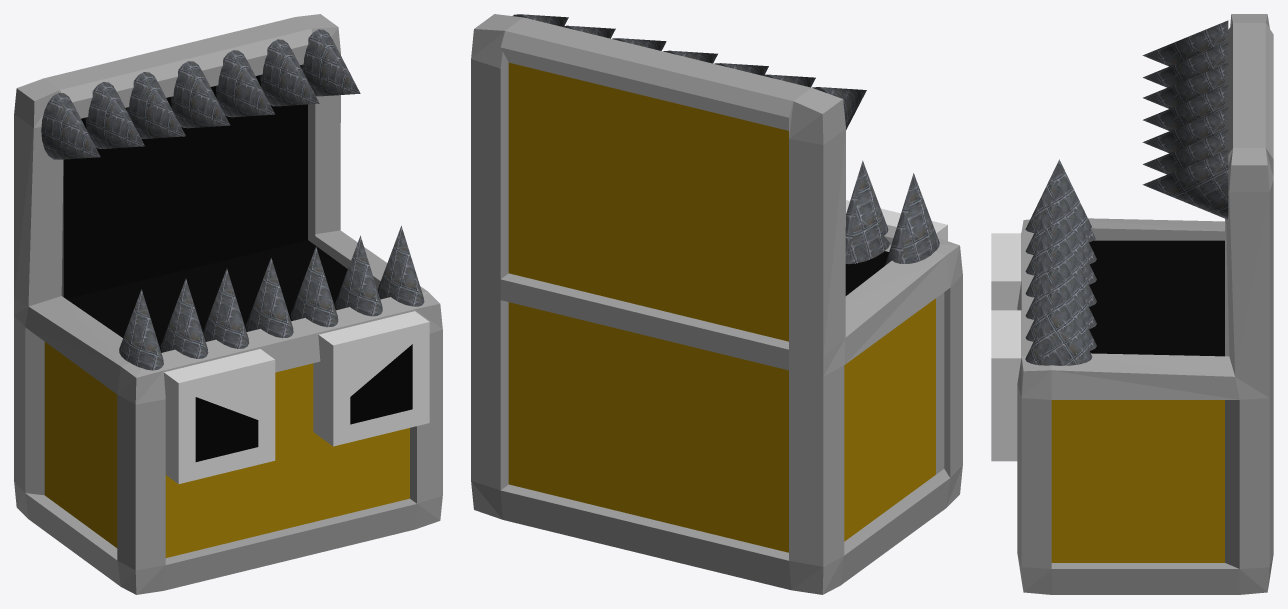
Rendered from Chest_Normal_Mimic.fbx.
3 views of the same model, side by side, from view 1: azimuth 30°, elevation 25°; view 2: azimuth 150°, elevation 25°; view 3: azimuth 270°, elevation 25° (orthographic). The views are drawn at different scales.
Parts seen in each view (by area): view 1: pCube18, pCube20, pCube19, pasted__pCone1, pasted__pCone3, pasted__pasted__pasted__pCone1, pasted__pasted__pasted__pCone3, pasted__pasted__pasted__pCone2, pasted__pCone4, pasted__pCone2, pasted__pasted__pasted__pCone6, pasted__pasted__pasted__pCone5 (+5 smaller); view 2: pCube18, pasted__pasted__pasted__pCone4, pasted__pCone5, pasted__pCone1; view 3: pCube18, pCube20, pasted__pCone4, pasted__pCone8, pCube19, pasted__pasted__pasted__pCone2, pasted__pCone1, pasted__pCone3, pasted__pCone2, pasted__pasted__pasted__pCone1, pasted__pasted__pasted__pCone3, pasted__pasted__pasted__pCone5 (+5 smaller).
Boxes of the visible parts, bbox=[...] form: pCube18: bbox=[14, 14, 442, 594]; pCube20: bbox=[313, 311, 429, 446]; pCube19: bbox=[164, 349, 275, 483]; pasted__pCone1: bbox=[41, 93, 100, 159]; pasted__pCone3: bbox=[216, 50, 275, 117]; pasted__pasted__pasted__pCone1: bbox=[85, 82, 144, 148]; pasted__pasted__pasted__pCone3: bbox=[260, 39, 319, 106]; pasted__pasted__pasted__pCone2: bbox=[171, 61, 230, 128]; pasted__pCone4: bbox=[301, 29, 360, 96]; pasted__pCone2: bbox=[126, 72, 185, 138]; pasted__pasted__pasted__pCone6: bbox=[335, 235, 382, 316]; pasted__pasted__pasted__pCone5: bbox=[246, 257, 293, 338]; pCube18: bbox=[471, 14, 962, 594]; pasted__pasted__pasted__pCone4: bbox=[845, 160, 890, 264]; pasted__pCone5: bbox=[885, 173, 939, 265]; pasted__pCone1: bbox=[812, 87, 866, 129]; pCube18: bbox=[1017, 14, 1273, 594]; pCube20: bbox=[991, 310, 1021, 461]; pasted__pCone4: bbox=[1142, 150, 1228, 219]; pasted__pCone8: bbox=[1025, 289, 1092, 365]; pCube19: bbox=[991, 233, 1021, 310]; pasted__pasted__pasted__pCone2: bbox=[1143, 85, 1228, 130]; pasted__pCone1: bbox=[1142, 20, 1228, 66]; pasted__pCone3: bbox=[1142, 107, 1228, 153]; pasted__pCone2: bbox=[1143, 63, 1228, 108]; pasted__pasted__pasted__pCone1: bbox=[1143, 42, 1228, 87]; pasted__pasted__pasted__pCone3: bbox=[1143, 129, 1228, 174]; pasted__pasted__pasted__pCone5: bbox=[1025, 224, 1096, 306].
Bounding box in the file's own units: 16.28 × 21.21 × 12.43.
